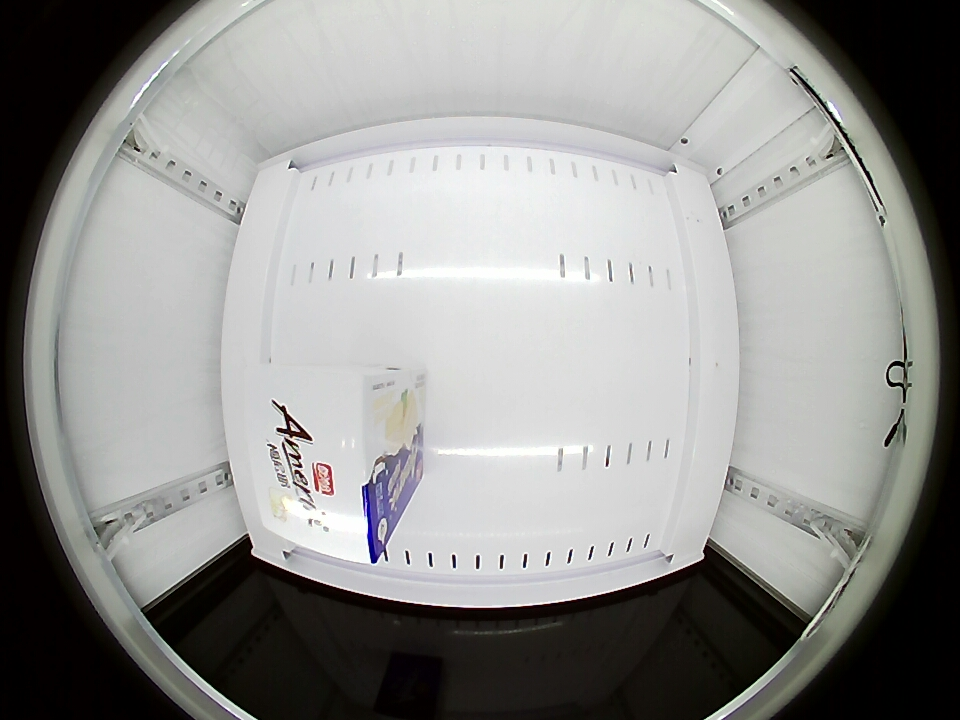meiniye: (255, 369, 399, 565)
